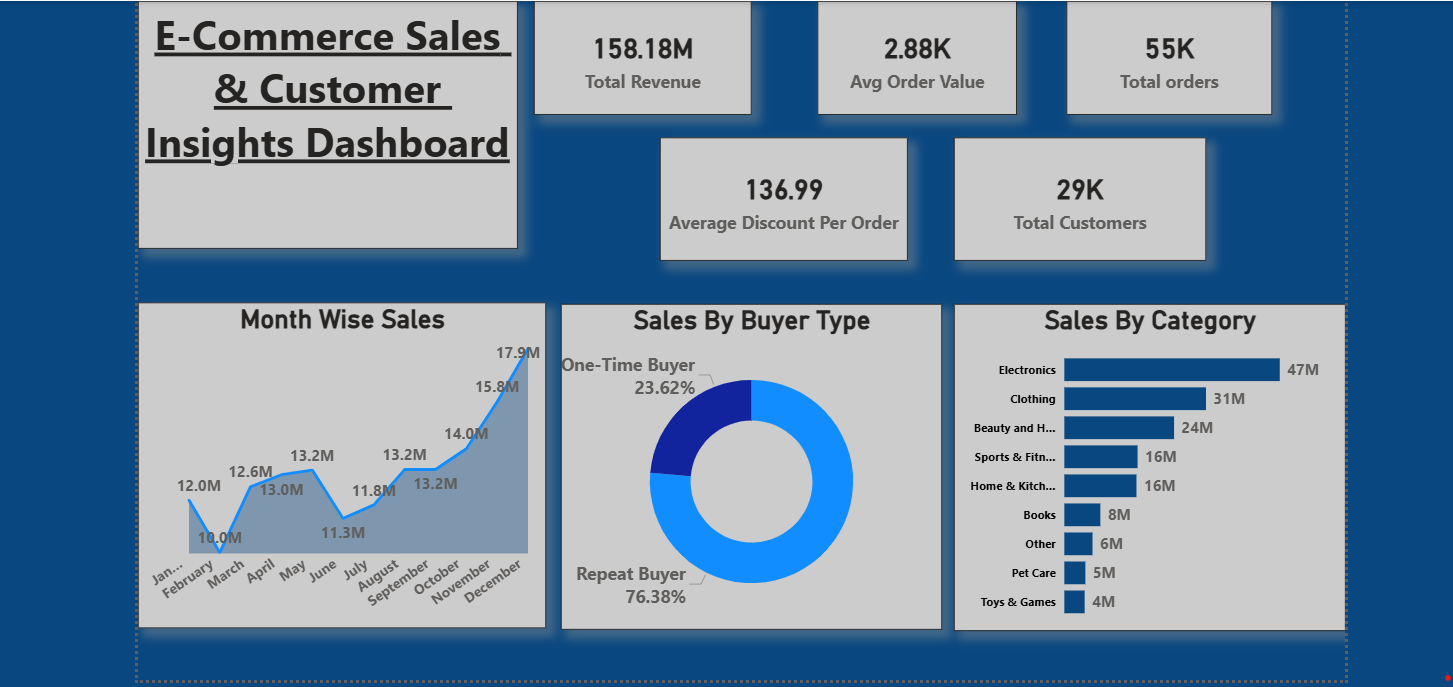

The dashboard page shown, as its layout file describes it:
{"tool":"powerbi","page":{"name":"Page 1","canvas":[1280,720],"ordinal":0},"visuals":[{"type":"textbox","box":[0,0,402.4,262.5],"z":0},{"type":"card","fields":{"Values":["ecommerce ecommerce_orders.Total revenue"]},"box":[419.9,0,230.6,120.9],"z":1000},{"type":"card","fields":{"Values":["ecommerce ecommerce_orders.Avg Order Value"]},"box":[720.5,0,211.6,120.9],"z":2000},{"type":"card","fields":{"Values":["ecommerce ecommerce_orders.Total orders"]},"box":[984.6,0,217.9,120.9],"z":3000},{"type":"card","fields":{"Values":["ecommerce ecommerce_orders.Average Discount Per Order"]},"box":[553.5,144.7,262.5,130.4],"z":4000},{"type":"card","fields":{"Values":["ecommerce ecommerce_orders.Total Customers"]},"box":[865.3,144.7,267.2,130.4],"z":5000},{"type":"lineChart","title":"Month Wise Sales","fields":{"Y":["Sum(ecommerce ecommerce_orders.net_amount)"],"Category":["ecommerce ecommerce_orders.purchase_date.Variation.Date Hierarchy.Month"]},"box":[0,319.7,432.6,345.2],"z":6000},{"type":"donutChart","title":"Sales By Buyer Type","fields":{"Category":["ecommerce buyer_type.customer_type"],"Y":["Sum(ecommerce buyer_type.total_sales)"]},"box":[448.6,321.3,404,345.2],"z":7000},{"type":"clusteredBarChart","title":"Sales By Category","fields":{"Category":["ecommerce top_products_by_sales.product_category"],"Y":["Sum(ecommerce top_products_by_sales.top_products_by_sales)"]},"box":[865.3,335.6,415.1,346.8],"z":8000}]}

Visuals, with their boxes in screenshot pixels (x1, y1, x2, y2):
textbox: Rect(132, 0, 512, 244)
card - ecommerce ecommerce_orders.Total revenue: Rect(529, 0, 746, 110)
card - ecommerce ecommerce_orders.Avg Order Value: Rect(812, 0, 1012, 110)
card - ecommerce ecommerce_orders.Total orders: Rect(1061, 0, 1267, 110)
card - ecommerce ecommerce_orders.Average Discount Per Order: Rect(655, 133, 902, 256)
card - ecommerce ecommerce_orders.Total Customers: Rect(949, 133, 1201, 256)
"Month Wise Sales" lineChart: Rect(132, 298, 540, 623)
"Sales By Buyer Type" donutChart: Rect(556, 299, 937, 625)
"Sales By Category" clusteredBarChart: Rect(949, 313, 1340, 640)
